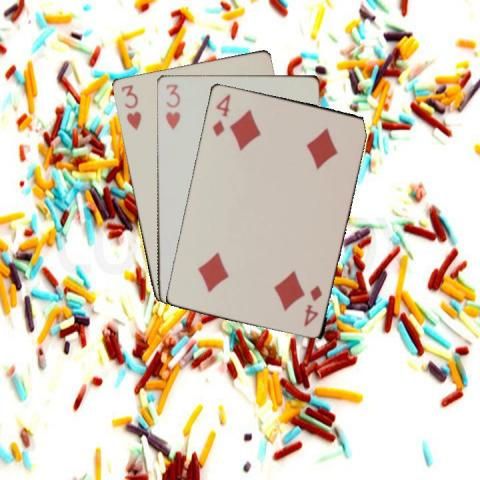3h: (117, 81, 143, 132), (162, 81, 181, 130)
4d: (209, 90, 232, 137), (301, 282, 323, 328)
